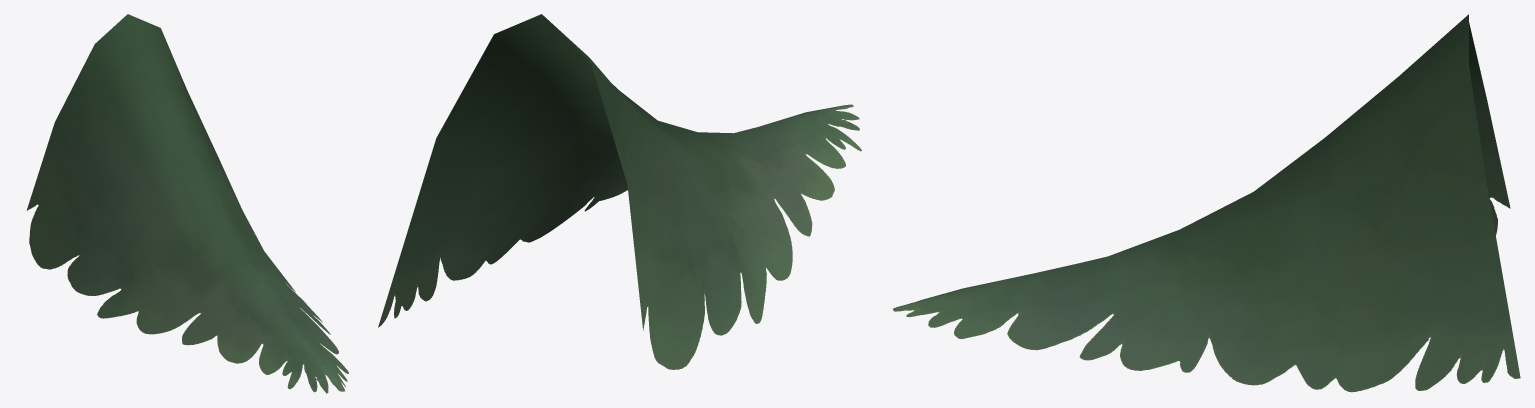
The model's file is branch A.FBX.
3 renders of one model, left to right at view 1: azimuth 30°, elevation 25°; view 2: azimuth 150°, elevation 25°; view 3: azimuth 270°, elevation 25°, orthographic. The views are drawn at different scales.
Visible parts, largest first — view 1: branch A; view 2: branch A; view 3: branch A.
Part boxes in pixels (<box>): branch A: <box>26,14,348,393</box>; branch A: <box>378,14,861,369</box>; branch A: <box>893,14,1520,392</box>.
Bounding box in the file's own units: 331 × 391 × 701.
